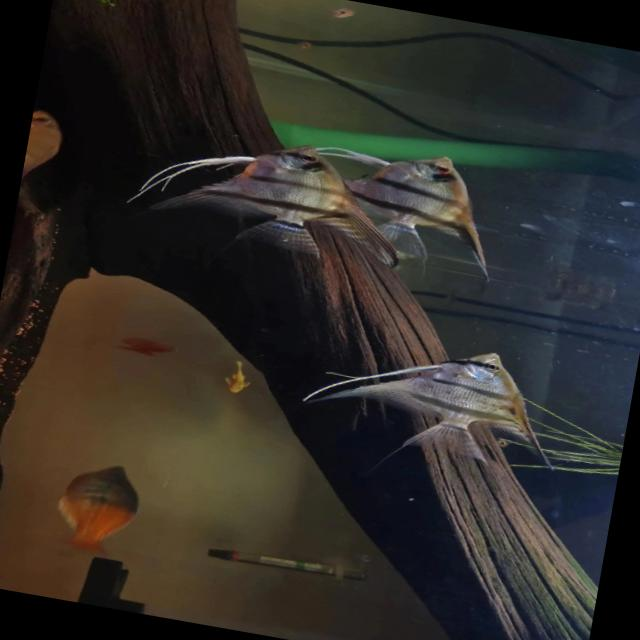AngelFish: (117, 115, 413, 267), (287, 321, 573, 473), (346, 143, 511, 274), (344, 248, 346, 250)
